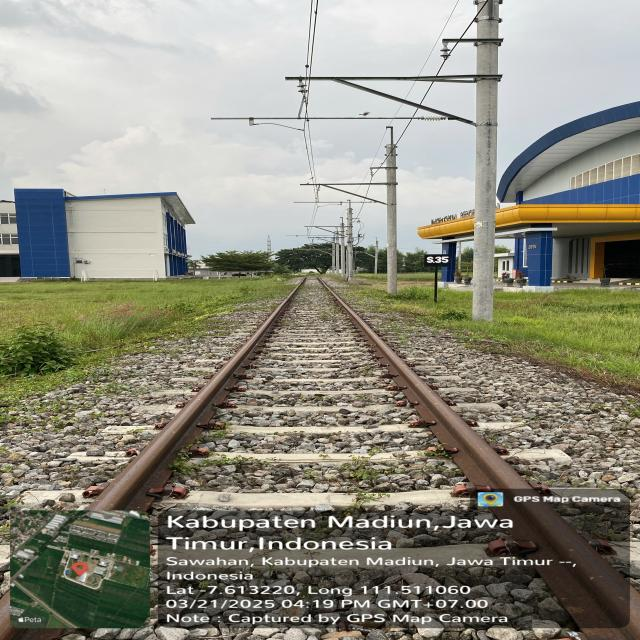rail-detection: (319, 280, 640, 638), (90, 285, 299, 510)
